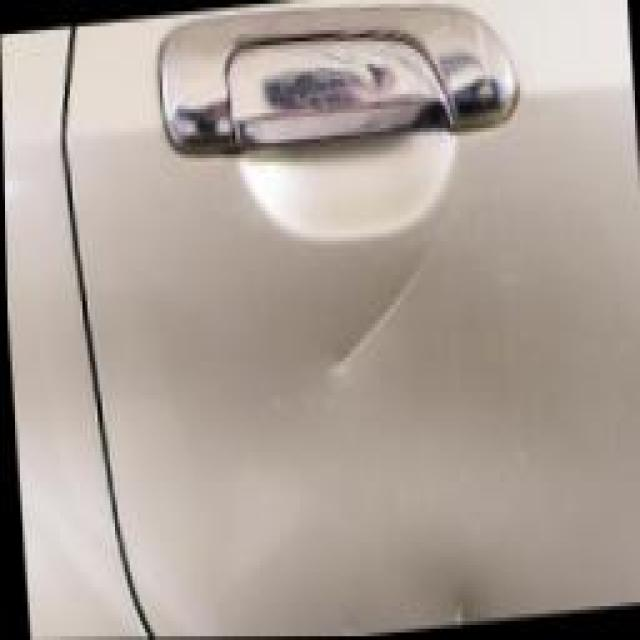Door: (160, 158, 557, 527), (350, 504, 560, 634)
